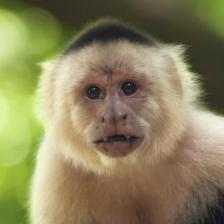monkey: (21, 16, 213, 222)
